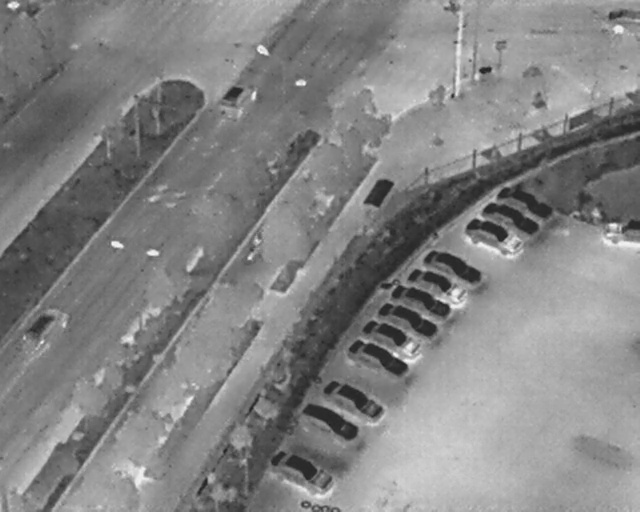Bicycle: (242, 233, 263, 263)
Car: (267, 440, 340, 499), (458, 209, 529, 264), (319, 372, 389, 426), (402, 259, 472, 310), (419, 241, 489, 292), (345, 332, 413, 384), (359, 310, 427, 362), (477, 193, 547, 243), (17, 296, 74, 356), (297, 395, 363, 446), (491, 177, 558, 226), (377, 294, 442, 342), (388, 278, 454, 322), (213, 71, 257, 122), (599, 216, 639, 251), (607, 6, 640, 35)
